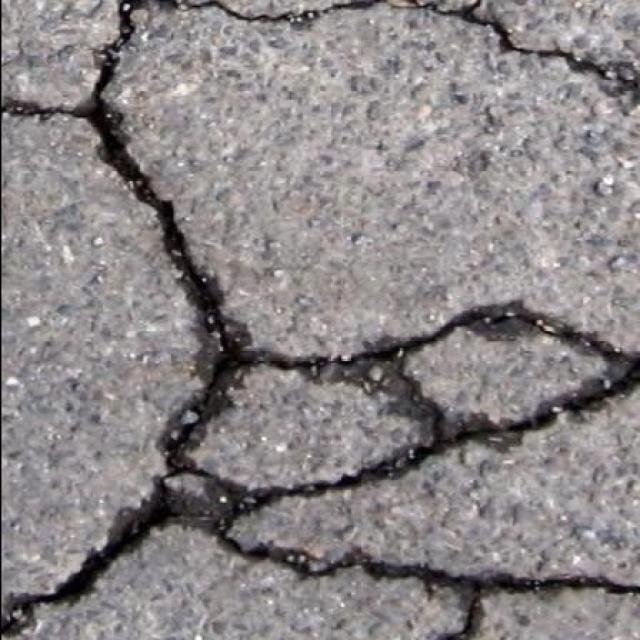Crack: (1, 0, 640, 640), (404, 0, 640, 104), (153, 0, 384, 29)
